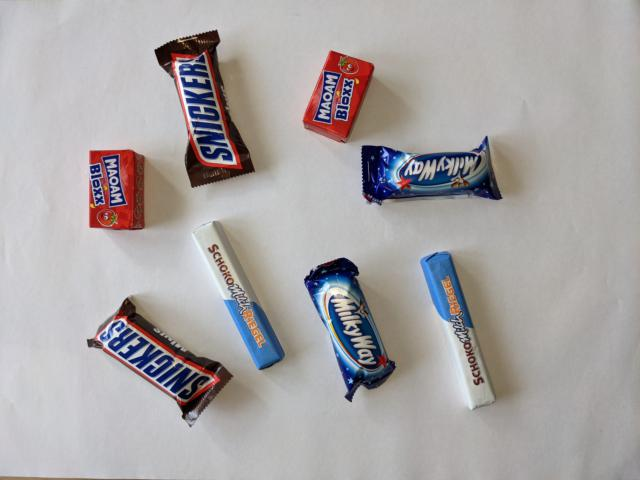MAOAM: (301, 49, 376, 145), (86, 147, 147, 233)
MilkyWay: (303, 256, 399, 404), (359, 134, 503, 208)
Schokoriegel: (188, 216, 287, 372), (419, 249, 499, 414)
Snickers: (84, 294, 235, 429), (153, 27, 257, 189)
